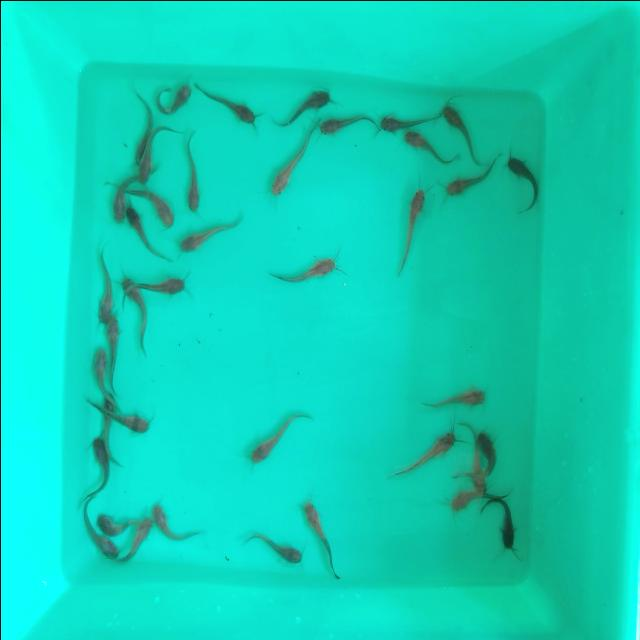lele: (266, 131, 314, 203), (304, 499, 338, 578), (178, 215, 246, 252), (399, 183, 427, 267), (249, 412, 293, 464), (441, 100, 476, 162), (504, 154, 542, 210), (268, 253, 334, 284), (118, 278, 146, 348), (243, 533, 300, 567), (204, 90, 256, 127), (278, 81, 332, 116), (446, 159, 494, 198), (405, 432, 455, 469), (126, 210, 160, 264), (152, 499, 194, 542), (182, 132, 202, 212), (421, 388, 486, 410), (131, 90, 150, 164), (402, 130, 443, 164), (138, 149, 172, 190), (106, 320, 124, 395), (380, 109, 438, 132), (154, 81, 190, 118), (97, 246, 113, 323), (317, 115, 371, 137), (86, 436, 106, 494), (444, 491, 492, 515), (119, 404, 154, 436), (141, 194, 172, 230), (478, 430, 499, 480), (493, 502, 515, 549), (140, 273, 186, 295), (93, 514, 137, 535), (104, 397, 118, 462), (88, 345, 106, 395), (82, 534, 114, 562), (467, 450, 488, 492), (132, 518, 150, 560), (114, 170, 126, 228)
